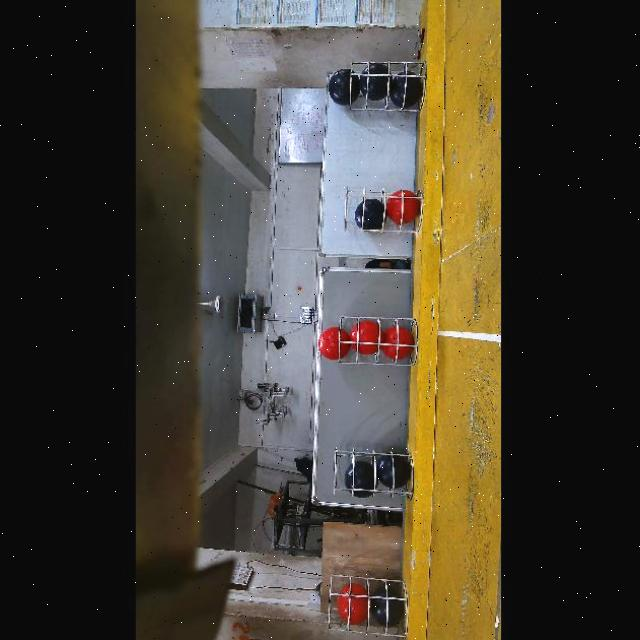P: (368, 586, 404, 628), (387, 70, 421, 109), (374, 454, 409, 489), (343, 461, 375, 498), (357, 62, 388, 100), (328, 68, 359, 106), (354, 199, 383, 230)
R: (336, 583, 366, 625), (347, 320, 381, 356), (317, 326, 348, 361), (384, 192, 419, 223), (380, 326, 412, 359)
S: (324, 573, 410, 639), (331, 446, 414, 502), (342, 64, 424, 114), (336, 316, 418, 366), (341, 188, 422, 238)
